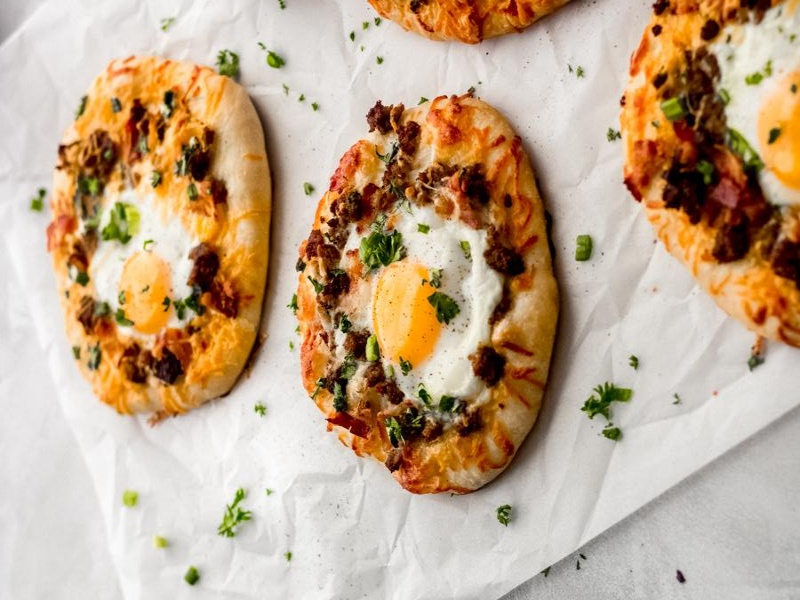oeuf: (364, 259, 454, 377), (107, 247, 185, 344), (744, 58, 800, 189)
